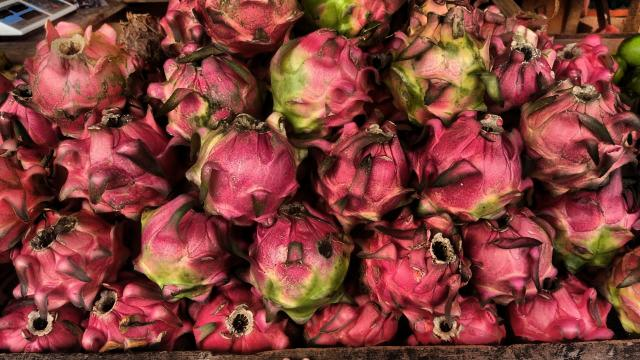buah-naga-belum-matang: (241, 194, 351, 318), (414, 112, 518, 221), (388, 18, 500, 118), (190, 124, 304, 222), (300, 125, 406, 225), (132, 200, 238, 296), (271, 26, 369, 128), (530, 176, 640, 266), (156, 61, 264, 130), (301, 0, 401, 38), (596, 252, 640, 332)
buah-naga-matang: (56, 113, 184, 217), (526, 76, 630, 186), (15, 30, 138, 122), (12, 218, 132, 302), (354, 220, 470, 304), (82, 282, 190, 354), (510, 270, 618, 342), (464, 211, 554, 297), (188, 278, 288, 354), (308, 292, 407, 352), (193, 0, 294, 50), (0, 294, 84, 352), (407, 297, 505, 345), (496, 22, 552, 103), (550, 38, 616, 82)
